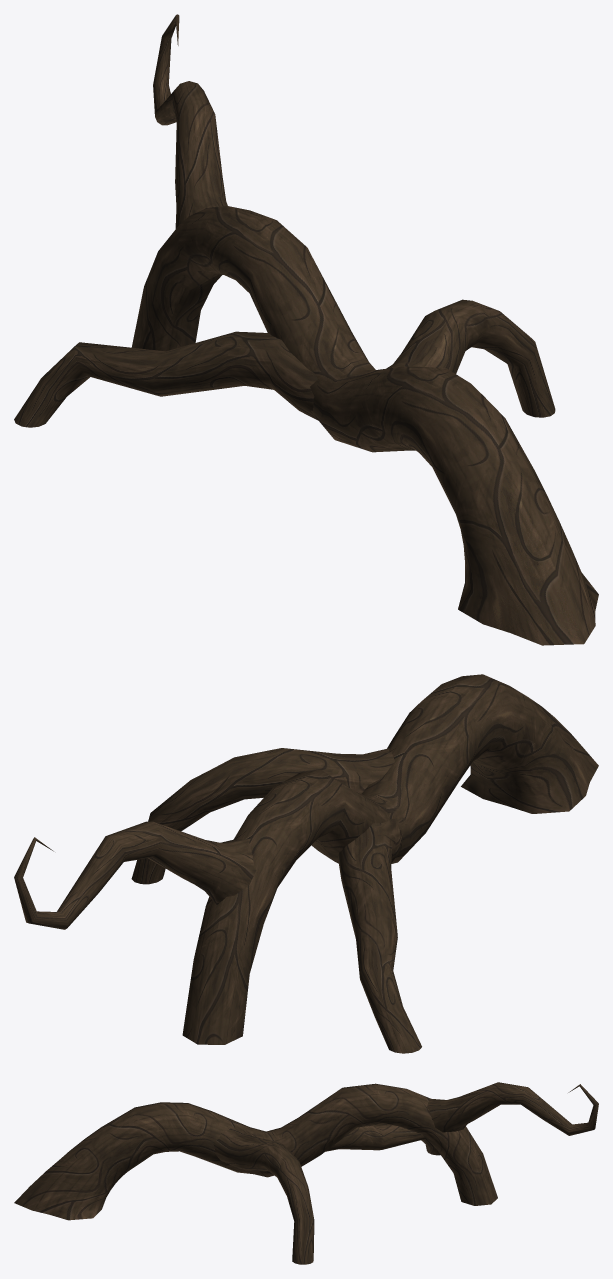
The model's file is rootGreen9.fbx.
3 views of the same model, one above another, from view 1: azimuth 30°, elevation 25°; view 2: azimuth 150°, elevation 25°; view 3: azimuth 270°, elevation 25° (orthographic). The views are drawn at different scales.
Visible parts, largest first — view 1: rootGreen9; view 2: rootGreen9; view 3: rootGreen9.
Boxes of the visible parts, left/top/right/bottom form: rootGreen9: left=14, top=14, right=598, bottom=645; rootGreen9: left=14, top=674, right=598, bottom=1053; rootGreen9: left=14, top=1082, right=598, bottom=1264.
Bounding box in the file's own units: 908 × 513 × 1902.
